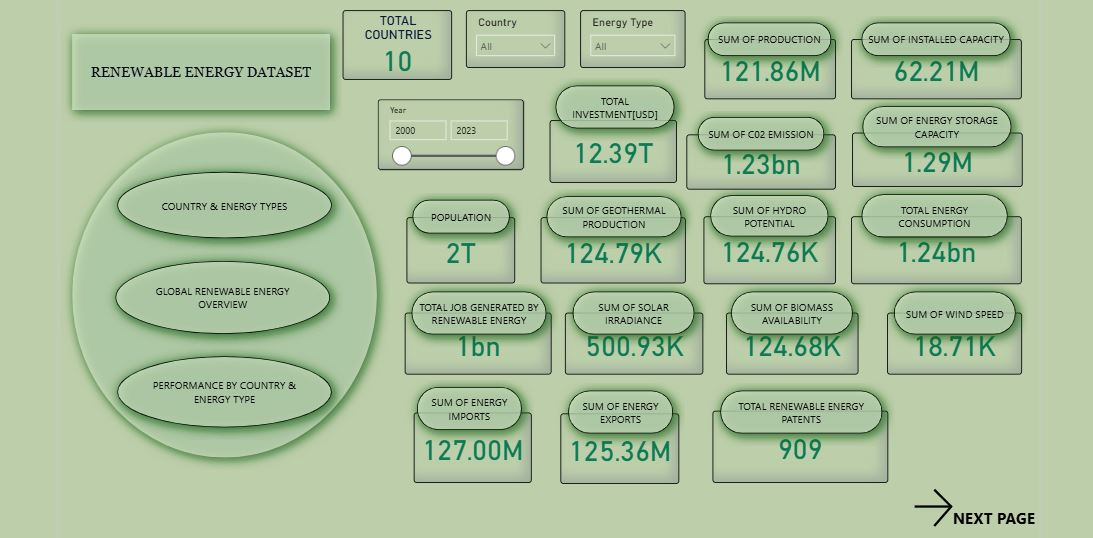

The page's visual inventory and layout, read from the dashboard file:
{"tool":"powerbi","page":{"name":"OVERALL OVERVIEW","canvas":[1280,720],"ordinal":0},"visuals":[{"type":"card","fields":{"Values":["Sum(complete_renewable_energy_dataset.Investments (USD))"]},"box":[640.5,164.4,166.9,82.2],"z":0},{"type":"card","fields":{"Values":["Sum(complete_renewable_energy_dataset.Biomass Availability)"]},"box":[871.2,417.2,173,81],"z":1000},{"type":"card","fields":{"Values":["Sum(complete_renewable_energy_dataset.Energy Consumption)"]},"box":[1035.6,290.8,223.3,88.3],"z":2000},{"type":"card","fields":{"Values":["Sum(complete_renewable_energy_dataset.Energy Exports)"]},"box":[655.2,548.5,155.8,92],"z":3000},{"type":"card","fields":{"Values":["Sum(complete_renewable_energy_dataset.Energy Imports)"]},"box":[462.6,547.2,154.6,92],"z":4000},{"type":"card","fields":{"Values":["Sum(complete_renewable_energy_dataset.Energy Storage Capacity)"]},"box":[1036.8,181.6,223.3,71.2],"z":5000},{"type":"card","fields":{"Values":["Sum(complete_renewable_energy_dataset.Installed Capacity (MW))"]},"box":[1035.6,58.9,223.3,78.5],"z":6000},{"type":"card","fields":{"Values":["Sum(complete_renewable_energy_dataset.Production (GWh))"]},"box":[842.9,58.9,171.8,78.5],"z":7000},{"type":"card","fields":{"Values":["Sum(complete_renewable_energy_dataset.Population)"]},"box":[454,292,142.3,87.1],"z":8000},{"type":"card","fields":{"Values":["Count(complete_renewable_energy_dataset.Renewable Energy Patents)"]},"box":[854,544.8,229.4,94.5],"z":9000},{"type":"card","fields":{"Values":["Sum(complete_renewable_energy_dataset.Wind Speed)"]},"box":[1082.2,417.2,176.7,81],"z":10000},{"type":"slicer","fields":{"Values":["complete_renewable_energy_dataset.Year"]},"box":[416,137.4,191.4,92],"z":11000},{"type":"card","fields":{"Values":["Sum(complete_renewable_energy_dataset.Hydro Potential)"]},"box":[841.7,290.8,173,88.3],"z":12000},{"type":"card","fields":{"Values":["Sum(complete_renewable_energy_dataset.Geothermal Potential)"]},"box":[629.5,292,190.2,87.1],"z":13000},{"type":"card","fields":{"Values":["Sum(complete_renewable_energy_dataset.Solar Irradiance)"]},"box":[660.1,417.2,181.6,81],"z":14000},{"type":"card","fields":{"Values":["Sum(complete_renewable_energy_dataset.Renewable Energy Jobs)"]},"box":[451.5,417.2,192.6,81],"z":15000},{"type":"shape","box":[0,164.4,430.7,457.7],"z":16000},{"type":"card","title":"TOTAL COUNTRIES","fields":{"Values":["Count(complete_renewable_energy_dataset.Country)"]},"box":[369.3,20.9,143.6,90.8],"z":17000},{"type":"slicer","fields":{"Values":["complete_renewable_energy_dataset.Country"]},"box":[531.3,20.9,130.1,76.1],"z":18000},{"type":"slicer","fields":{"Values":["complete_renewable_energy_dataset.Energy Type"]},"box":[681,20.9,137.4,76.1],"z":19000},{"type":"card","fields":{"Values":["Sum(complete_renewable_energy_dataset.CO2 Emissions)"]},"box":[819.6,184.1,195.1,72.4],"z":20000},{"type":"shape","box":[831.9,20.9,193.9,76.1],"z":21000},{"type":"shape","box":[1033.1,20.9,227,76.1],"z":22000},{"type":"shape","box":[818.4,144.8,197.5,76.1],"z":23000},{"type":"shape","box":[631.9,103.1,187.7,88.3],"z":24000},{"type":"shape","box":[1034.4,131.3,227,85.9],"z":25000},{"type":"shape","box":[620.9,249.1,208.6,85.9],"z":26000},{"type":"shape","box":[445.4,252.8,159.5,76.1],"z":27000},{"type":"shape","box":[835.6,247.9,186.5,85.9],"z":28000},{"type":"shape","box":[1033.1,246.6,223.3,88.3],"z":29000},{"type":"shape","box":[444.2,373,208.6,88.3],"z":30000},{"type":"shape","box":[655.2,373,191.4,88.3],"z":31000},{"type":"shape","box":[862.6,373,191.4,88.3],"z":32000},{"type":"shape","box":[1074.9,373,191.4,88.3],"z":33000},{"type":"shape","box":[451.5,498.2,169.3,88.3],"z":34000},{"type":"shape","box":[649.1,503.1,169.3,88.3],"z":35000},{"type":"shape","box":[847.9,503.1,244.2,88.3],"z":36000},{"type":"shape","box":[0,36.8,369.3,131.3],"z":37000},{"type":"shape","box":[58.9,217.2,312.9,119],"z":38000},{"type":"shape","box":[56.4,333.7,312.9,127.6],"z":39000},{"type":"shape","box":[58.9,457.7,312.9,125.2],"z":40000},{"type":"actionButton","box":[1110.4,640.5,169.3,62.6],"z":41000}]}

Visuals, with their boxes on the page's 1280x720 design canvas (x1, y1, x2, y2). These are canvas units, not pixel positions in the 1093x538 screenshot, which may show the page scaled, cropped or inside an application window:
card - Sum(complete_renewable_energy_dataset.Investments (USD)): locate(640, 164, 807, 247)
card - Sum(complete_renewable_energy_dataset.Biomass Availability): locate(871, 417, 1044, 498)
card - Sum(complete_renewable_energy_dataset.Energy Consumption): locate(1036, 291, 1259, 379)
card - Sum(complete_renewable_energy_dataset.Energy Exports): locate(655, 548, 811, 640)
card - Sum(complete_renewable_energy_dataset.Energy Imports): locate(463, 547, 617, 639)
card - Sum(complete_renewable_energy_dataset.Energy Storage Capacity): locate(1037, 182, 1260, 253)
card - Sum(complete_renewable_energy_dataset.Installed Capacity (MW)): locate(1036, 59, 1259, 137)
card - Sum(complete_renewable_energy_dataset.Production (GWh)): locate(843, 59, 1015, 137)
card - Sum(complete_renewable_energy_dataset.Population): locate(454, 292, 596, 379)
card - Count(complete_renewable_energy_dataset.Renewable Energy Patents): locate(854, 545, 1083, 639)
card - Sum(complete_renewable_energy_dataset.Wind Speed): locate(1082, 417, 1259, 498)
slicer - complete_renewable_energy_dataset.Year: locate(416, 137, 607, 229)
card - Sum(complete_renewable_energy_dataset.Hydro Potential): locate(842, 291, 1015, 379)
card - Sum(complete_renewable_energy_dataset.Geothermal Potential): locate(630, 292, 820, 379)
card - Sum(complete_renewable_energy_dataset.Solar Irradiance): locate(660, 417, 842, 498)
card - Sum(complete_renewable_energy_dataset.Renewable Energy Jobs): locate(452, 417, 644, 498)
shape: locate(0, 164, 431, 622)
"TOTAL COUNTRIES" card: locate(369, 21, 513, 112)
slicer - complete_renewable_energy_dataset.Country: locate(531, 21, 661, 97)
slicer - complete_renewable_energy_dataset.Energy Type: locate(681, 21, 818, 97)
card - Sum(complete_renewable_energy_dataset.CO2 Emissions): locate(820, 184, 1015, 256)
shape: locate(832, 21, 1026, 97)
shape: locate(1033, 21, 1260, 97)
shape: locate(818, 145, 1016, 221)
shape: locate(632, 103, 820, 191)
shape: locate(1034, 131, 1261, 217)
shape: locate(621, 249, 830, 335)
shape: locate(445, 253, 605, 329)
shape: locate(836, 248, 1022, 334)
shape: locate(1033, 247, 1256, 335)
shape: locate(444, 373, 653, 461)
shape: locate(655, 373, 847, 461)
shape: locate(863, 373, 1054, 461)
shape: locate(1075, 373, 1266, 461)
shape: locate(452, 498, 621, 586)
shape: locate(649, 503, 818, 591)
shape: locate(848, 503, 1092, 591)
shape: locate(0, 37, 369, 168)
shape: locate(59, 217, 372, 336)
shape: locate(56, 334, 369, 461)
shape: locate(59, 458, 372, 583)
actionButton: locate(1110, 640, 1280, 703)
